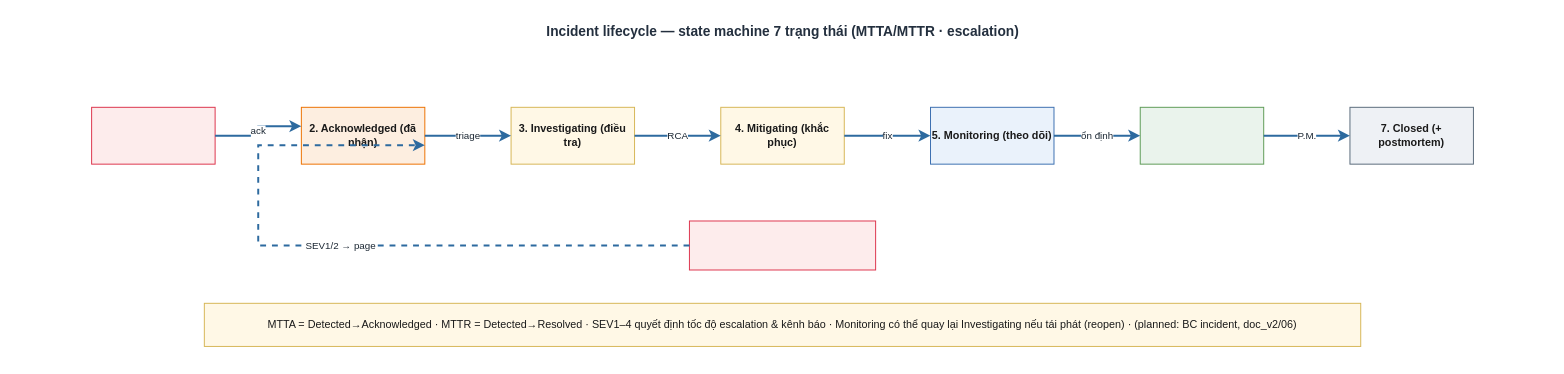
Image size: 1564x374. Some labels were removed from this diagram. The centre of each missing label's shape, as x and y in pixels:
"1. Detected (mở)" goes at point 153,135.
"6. Resolved (đã xử lý)" goes at point 1201,135.
"On-call escalation SEV1 → L2/L3 (PagerDuty)" goes at point 782,245.
